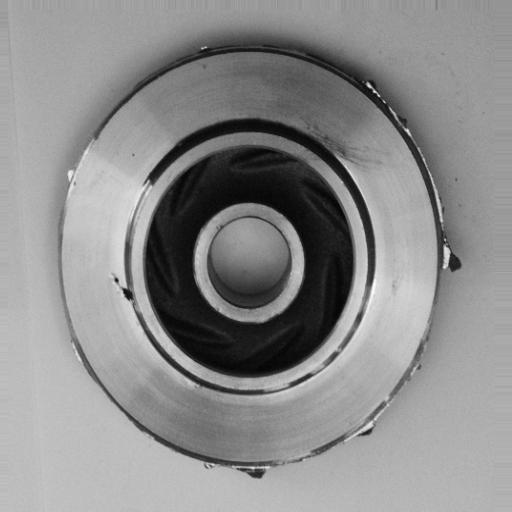casting_with_burr: (54, 40, 463, 482)
crack: (104, 265, 142, 313)
scratch: (124, 175, 159, 254)
stain: (312, 120, 387, 175)
